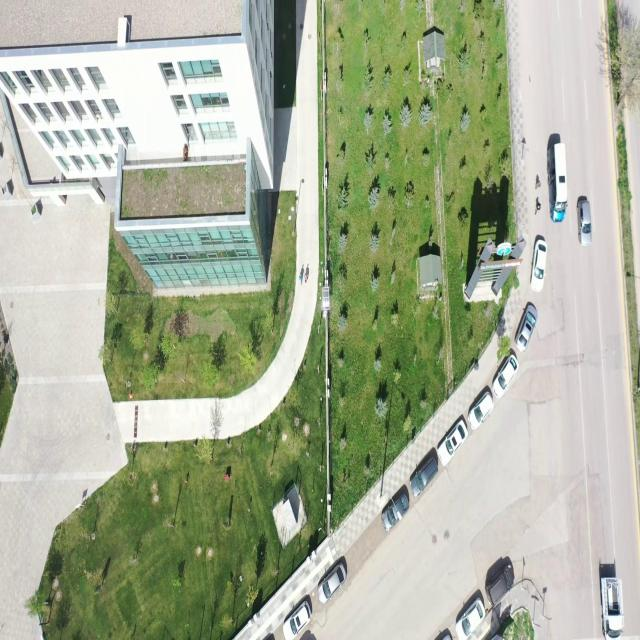p3rson: (535, 201, 541, 215), (298, 271, 304, 285), (535, 179, 541, 191), (304, 272, 308, 284)
